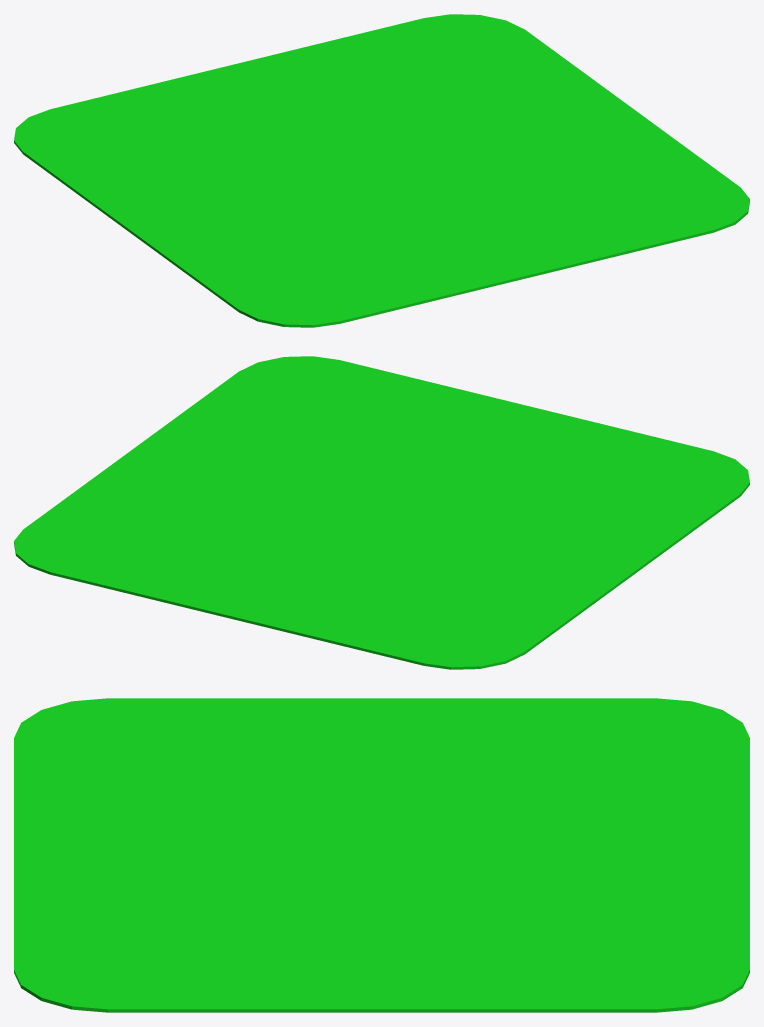
File: Sticker.fbx
3 renders of one model, top to bottom at view 1: azimuth 30°, elevation 25°; view 2: azimuth 150°, elevation 25°; view 3: azimuth 270°, elevation 25°, orthographic. The views are drawn at different scales.
Parts seen in each view (by area): view 1: Sticker.001; view 2: Sticker.001; view 3: Sticker.001.
Part boxes in pixels (left/top/right/bottom): Sticker.001: left=14, top=14, right=749, bottom=327; Sticker.001: left=14, top=356, right=749, bottom=669; Sticker.001: left=14, top=698, right=749, bottom=1012.
Size of the model in its own units: 170 by 0.8514 by 170.
